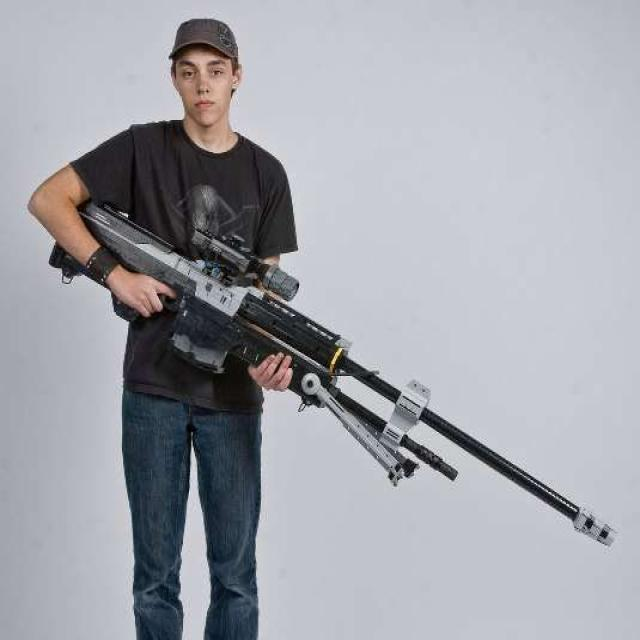Rifle: (79, 200, 616, 547)
